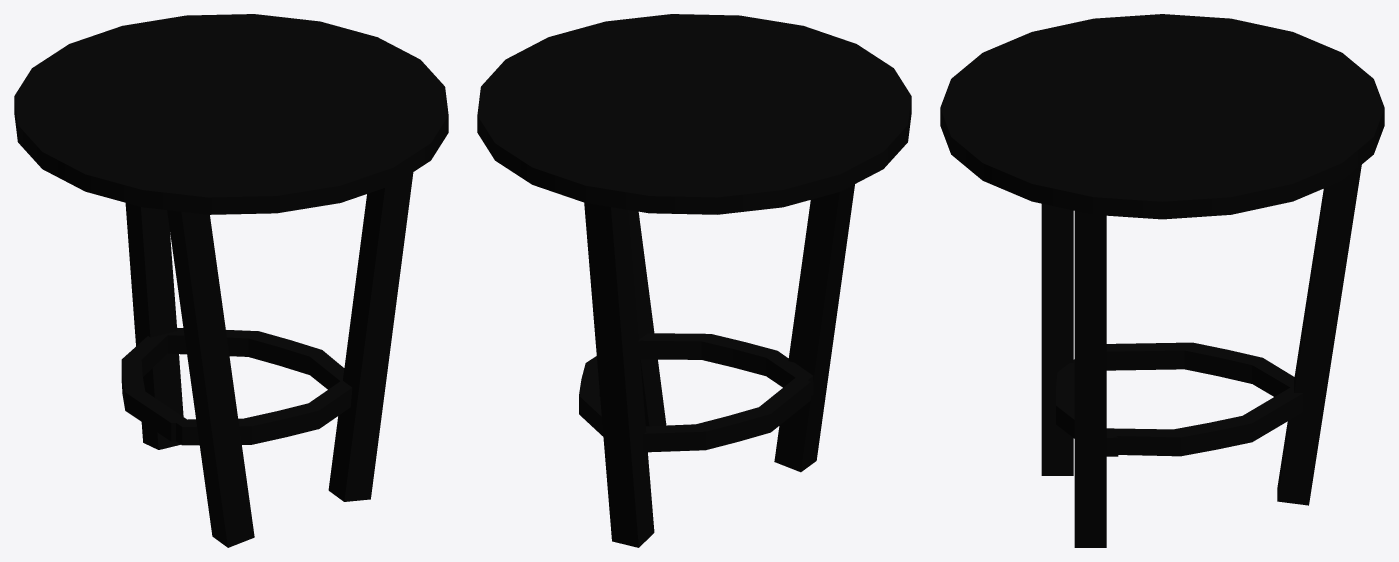
File: mesa.obj
The picture shows the model from 3 angles, left to right: view 1: azimuth 30°, elevation 25°; view 2: azimuth 150°, elevation 25°; view 3: azimuth 270°, elevation 25°; orthographic projection.
Visible parts, largest first — view 1: group2_pasted__pCube1; view 2: group2_pasted__pCube1; view 3: group2_pasted__pCube1.
Boxes of the visible parts, left/top/right/bottom form: group2_pasted__pCube1: left=14, top=14, right=448, bottom=547; group2_pasted__pCube1: left=477, top=14, right=911, bottom=547; group2_pasted__pCube1: left=940, top=14, right=1384, bottom=547.
Bounding box in the file's own units: 0.8834 × 0.8606 × 0.8834.
1 material, 1 textured.
